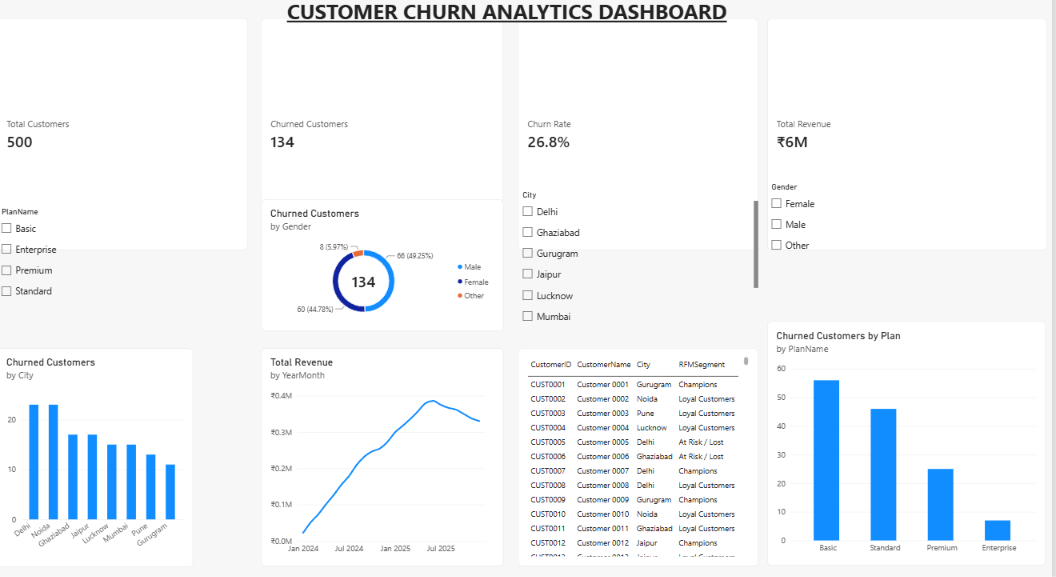

The page's visual inventory and layout, read from the dashboard file:
{"tool":"powerbi","page":{"name":"Page 1","canvas":[1920,1080],"ordinal":0},"visuals":[{"type":"cardVisual","fields":{"Data":["DimCustomer.Total Customers"]},"box":[10,48,454,420],"z":0},{"type":"cardVisual","fields":{"Data":["DimCustomer.Churned Customers"]},"box":[488,48,438,420],"z":1000},{"type":"cardVisual","fields":{"Data":["DimCustomer.Churn Rate"]},"box":[954,48,434,420],"z":2000},{"type":"cardVisual","fields":{"Data":["DimCustomer.Total Revenue"]},"box":[1404,48,506,420],"z":3000},{"type":"lineChart","fields":{"Category":["DimDate.YearMonth"],"Y":["DimCustomer.Total Revenue"]},"box":[488,646,438,394],"z":4000},{"type":"clusteredColumnChart","fields":{"Category":["DimPlan.PlanName"],"Y":["DimCustomer.Churned Customers by Plan"]},"box":[1404,598,504,442],"z":5000},{"type":"clusteredColumnChart","fields":{"Category":["DimCustomer.City"],"Y":["DimCustomer.Churned Customers"]},"box":[10,646,354,396],"z":6000},{"type":"donutChart","fields":{"Category":["DimCustomer.Gender"],"Y":["DimCustomer.Churned Customers"]},"box":[488,376,438,238],"z":7000},{"type":"slicer","fields":{"Values":["DimPlan.PlanName"]},"box":[10,390,454,256],"z":8000},{"type":"slicer","fields":{"Values":["DimCustomer.City"]},"box":[954,360,434,238],"z":9000},{"type":"slicer","fields":{"Values":["DimCustomer.Gender"]},"box":[1404,346,504,252],"z":10000},{"type":"textbox","box":[522,10,824,54],"z":11000},{"type":"tableEx","fields":{"Values":["DimCustomer.CustomerID","DimCustomer.CustomerName","DimCustomer.City","DimCustomer.RFMSegment"]},"box":[954,646,434,394],"z":12000}]}

Visuals, with their boxes in screenshot pixels (x1, y1, x2, y2), scaled from the page's 1920x1080 canvas onto the 1056x577 screenshot:
cardVisual - DimCustomer.Total Customers: l=6, t=26, r=255, b=250
cardVisual - DimCustomer.Churned Customers: l=268, t=26, r=509, b=250
cardVisual - DimCustomer.Churn Rate: l=525, t=26, r=763, b=250
cardVisual - DimCustomer.Total Revenue: l=772, t=26, r=1050, b=250
lineChart - DimDate.YearMonth x DimCustomer.Total Revenue: l=268, t=345, r=509, b=556
clusteredColumnChart - DimPlan.PlanName x DimCustomer.Churned Customers by Plan: l=772, t=319, r=1049, b=556
clusteredColumnChart - DimCustomer.City x DimCustomer.Churned Customers: l=6, t=345, r=200, b=557
donutChart - DimCustomer.Gender x DimCustomer.Churned Customers: l=268, t=201, r=509, b=328
slicer - DimPlan.PlanName: l=6, t=208, r=255, b=345
slicer - DimCustomer.City: l=525, t=192, r=763, b=319
slicer - DimCustomer.Gender: l=772, t=185, r=1049, b=319
textbox: l=287, t=5, r=740, b=34
tableEx - DimCustomer.CustomerID x DimCustomer.CustomerName: l=525, t=345, r=763, b=556
